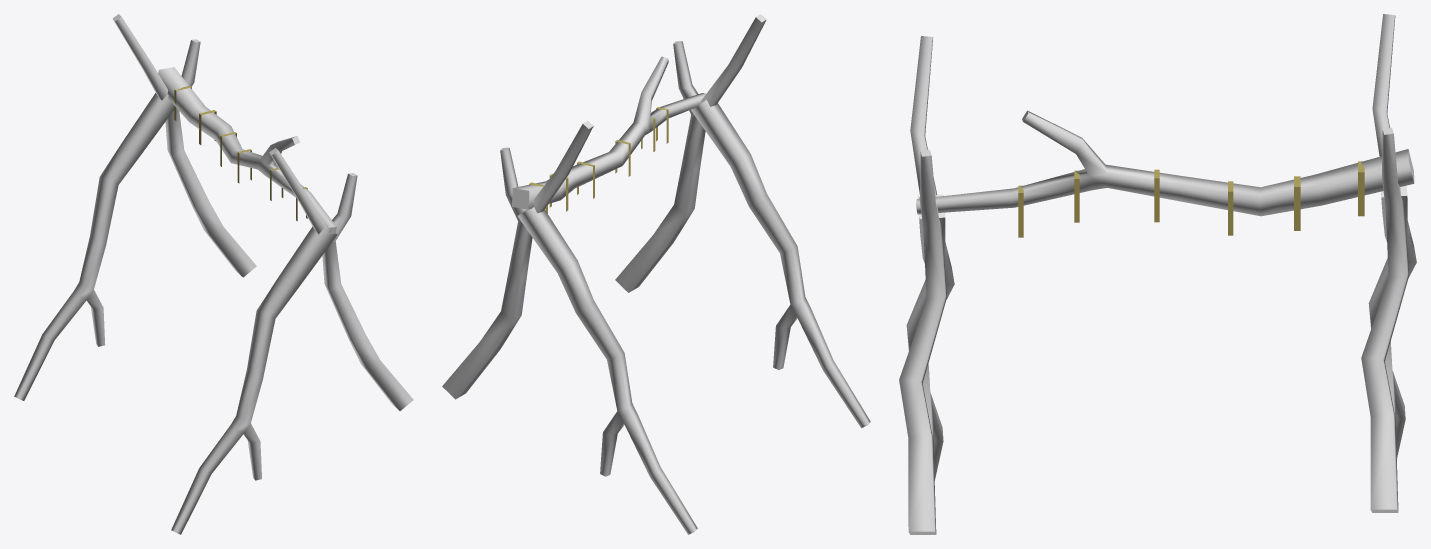
File: meatRack.glb
3 views of the same model, side by side, from view 1: azimuth 30°, elevation 25°; view 2: azimuth 150°, elevation 25°; view 3: azimuth 270°, elevation 25° (orthographic). The views are drawn at different scales.
Visible parts, largest first — view 1: Cube.004, Cube.005, Cube.003, Cube.001, Cube.002, twine; view 2: Cube.005, Cube.004, Cube.003, Cube.001, Cube.002, twine; view 3: Cube.002, Cube.003, Cube.001, Cube.005, Cube.004, twine.
Boxes of the visible parts, left/top/right/bottom form: Cube.004: left=171, top=226, right=337, bottom=534; Cube.005: left=14, top=93, right=174, bottom=400; Cube.003: left=269, top=148, right=413, bottom=410; Cube.001: left=112, top=14, right=256, bottom=277; Cube.002: left=158, top=67, right=336, bottom=234; twine: left=174, top=85, right=307, bottom=221; Cube.005: left=517, top=207, right=697, bottom=534; Cube.004: left=691, top=100, right=870, bottom=428; Cube.003: left=615, top=14, right=766, bottom=292; Cube.001: left=442, top=120, right=593, bottom=399; Cube.002: left=512, top=56, right=705, bottom=209; twine: left=529, top=107, right=668, bottom=213; Cube.002: left=916, top=110, right=1414, bottom=216; Cube.003: left=899, top=36, right=947, bottom=534; Cube.001: left=1361, top=14, right=1409, bottom=512; Cube.005: left=1368, top=185, right=1416, bottom=458; Cube.004: left=906, top=194, right=954, bottom=480; twine: left=1018, top=161, right=1364, bottom=237.
Bounding box in the file's own units: 1.53 × 2.31 × 1.98.
